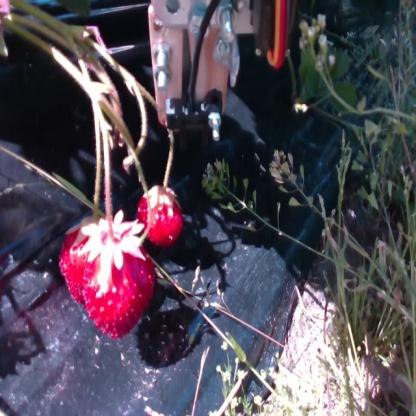ripe: (80, 248, 160, 338), (54, 228, 108, 296), (138, 187, 184, 238)
